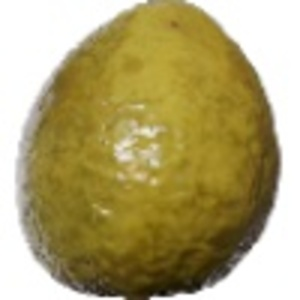goiaba: (12, 5, 286, 293)
